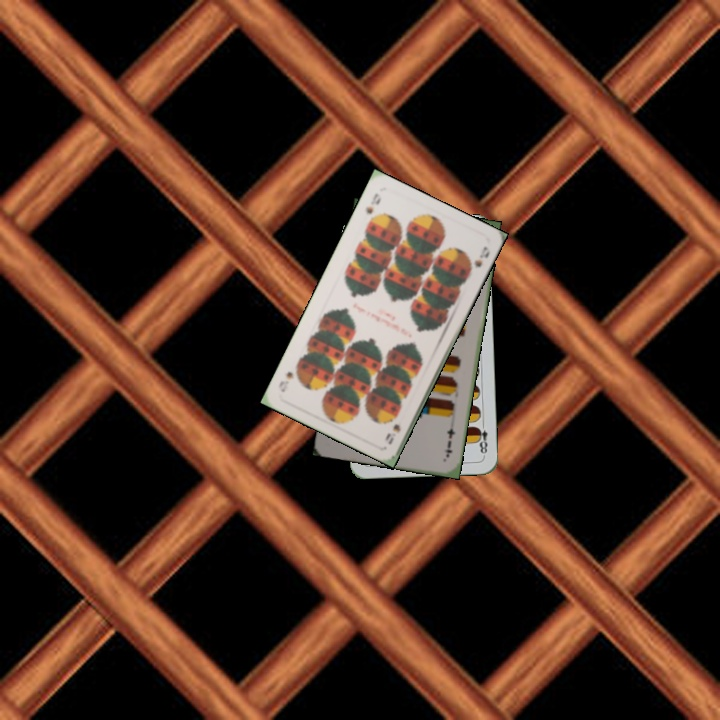E7: (440, 424, 458, 460)
E8: (473, 418, 490, 458)
S9: (362, 189, 384, 217), (381, 420, 403, 447)
